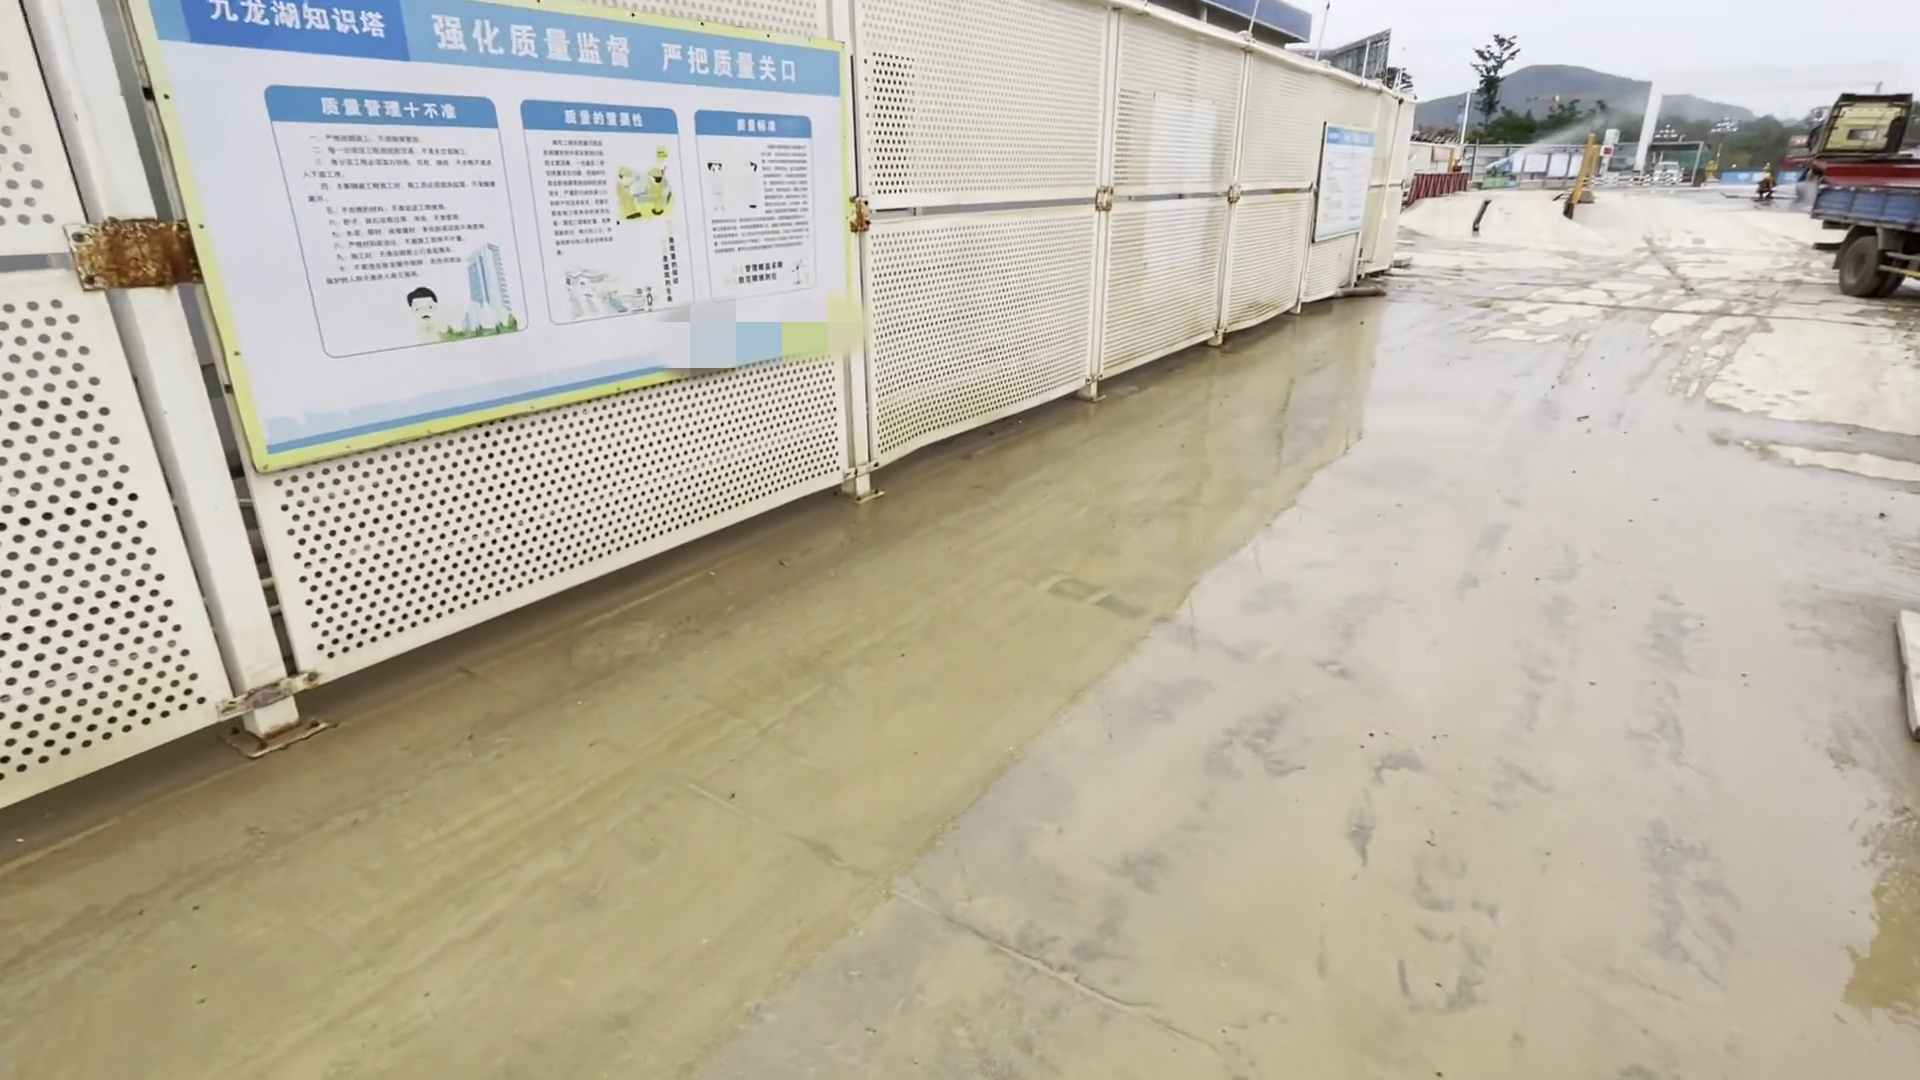slogan: (125, 3, 897, 414)
